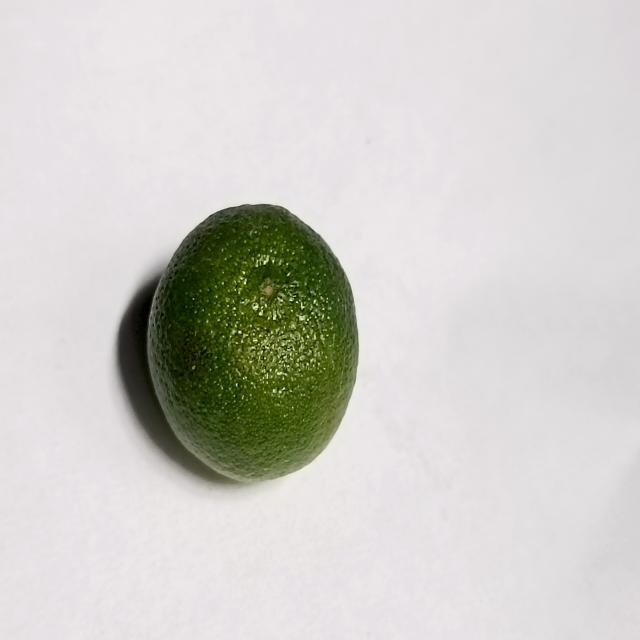heathy: (145, 194, 368, 486)
